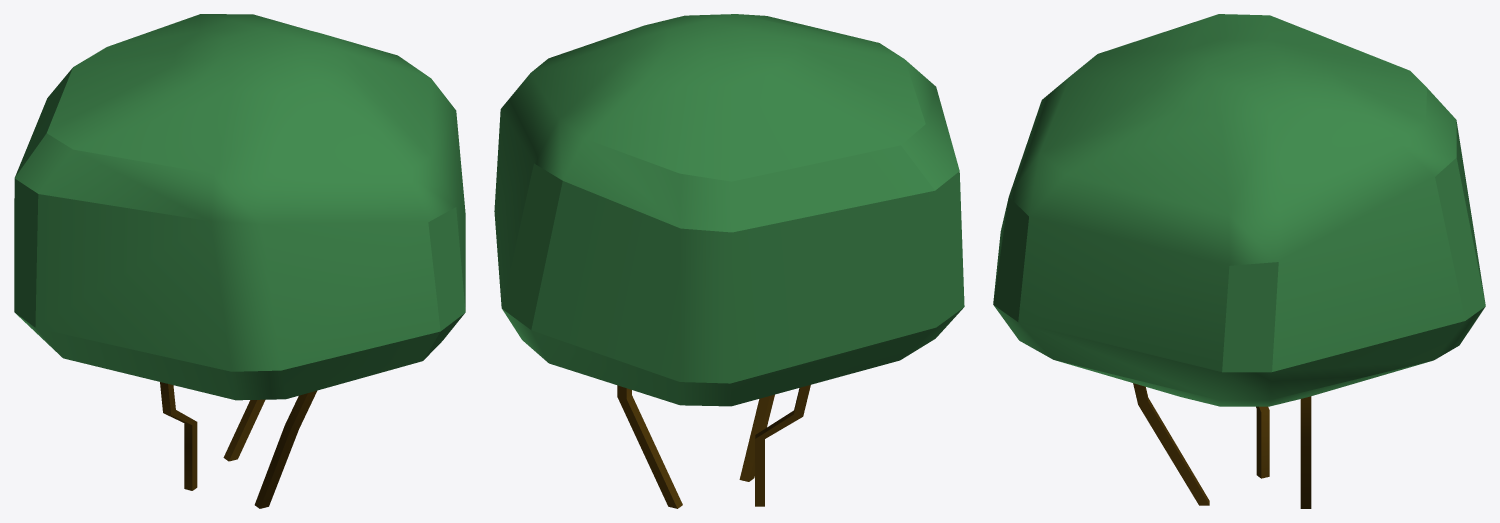
Rendered from Buisson_04.fbx.
The picture shows the model from 3 angles, left to right: view 1: azimuth 30°, elevation 25°; view 2: azimuth 150°, elevation 25°; view 3: azimuth 270°, elevation 25°; orthographic projection. The views are drawn at different scales.
Parts seen in each view (by area): view 1: pCube3; view 2: pCube3; view 3: pCube3.
Boxes of the visible parts, left/top/right/bottom form: pCube3: left=14, top=14, right=465, bottom=508; pCube3: left=494, top=14, right=964, bottom=508; pCube3: left=993, top=14, right=1485, bottom=508.
Size of the model in its own units: 14.15 by 13.73 by 13.84.
